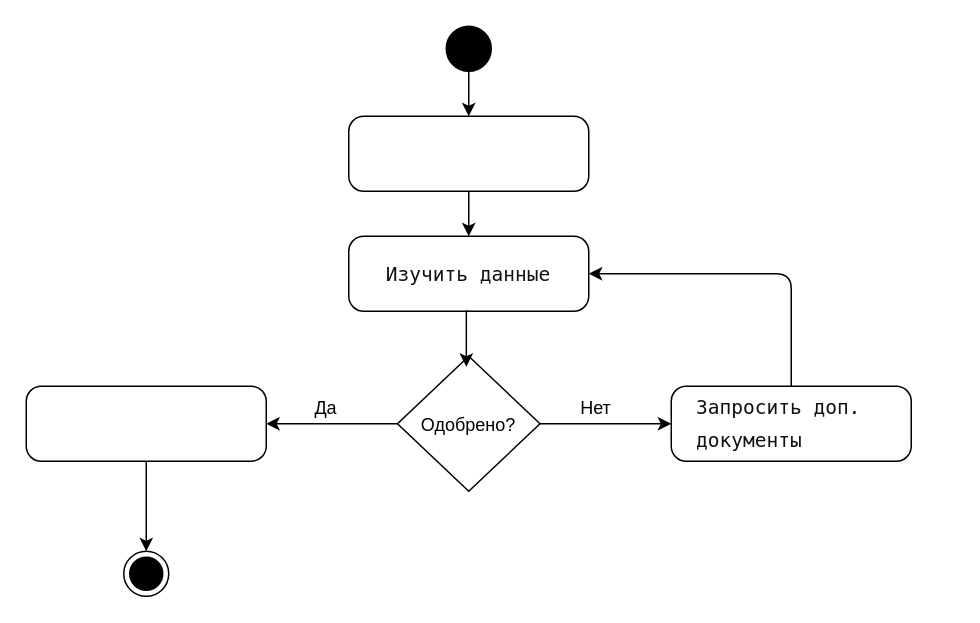
The diagram is 980 pixels wide and 623 high, and some of its shapes have lost their labels. The centre of each missing label's shape, as x and y in pixels:
"Одобрить" goes at (x=145, y=423).
"Получить заявку" goes at (x=468, y=153).
